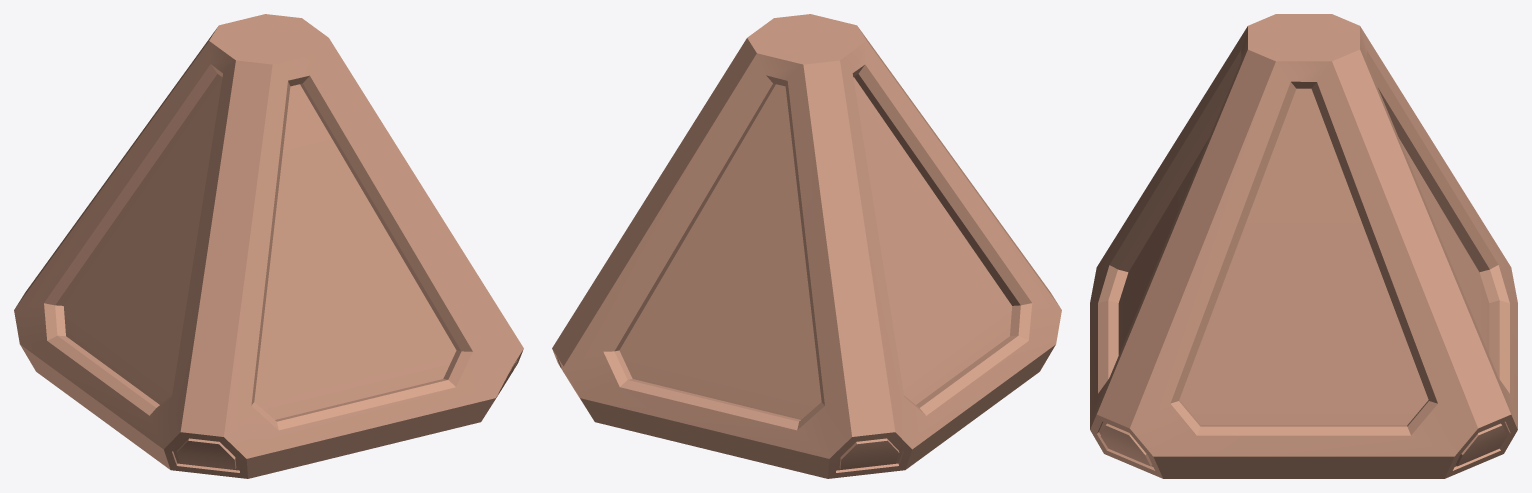
File: Piramid.fbx
The picture shows the model from 3 angles, left to right: view 1: azimuth 30°, elevation 25°; view 2: azimuth 150°, elevation 25°; view 3: azimuth 270°, elevation 25°; orthographic projection. The views are drawn at different scales.
Visible parts, largest first — view 1: polySurface50; view 2: polySurface50; view 3: polySurface50.
Part boxes in pixels (x1,y1,x2,y2): polySurface50: (14,14,523,478); polySurface50: (552,14,1061,478); polySurface50: (1090,14,1517,478).
Size of the model in its own units: 1.89 by 1.74 by 1.89.
